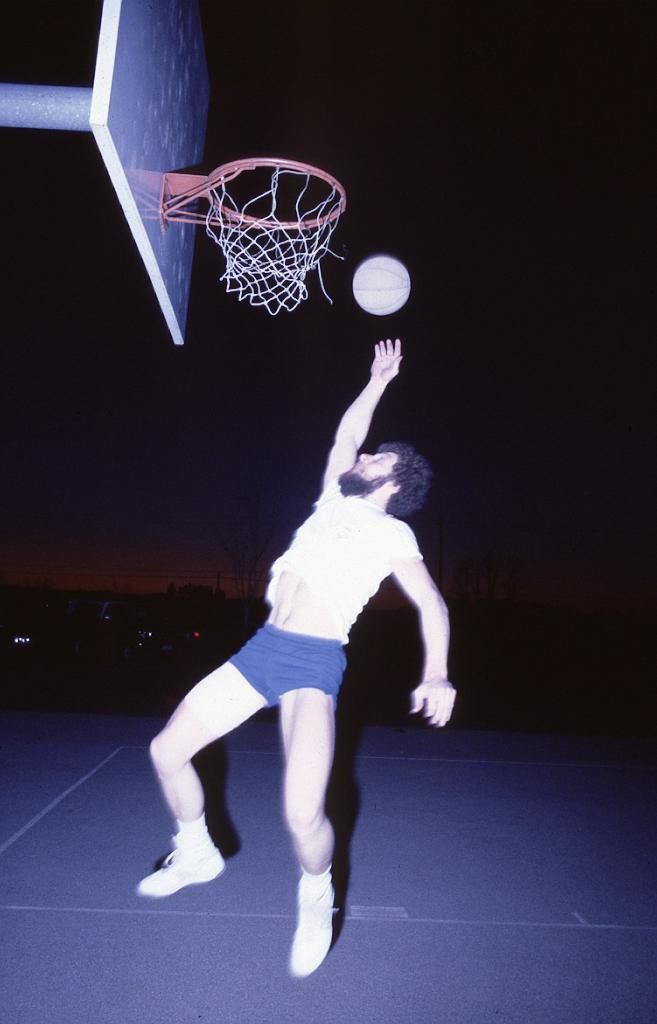Ball: (357, 255, 407, 314)
